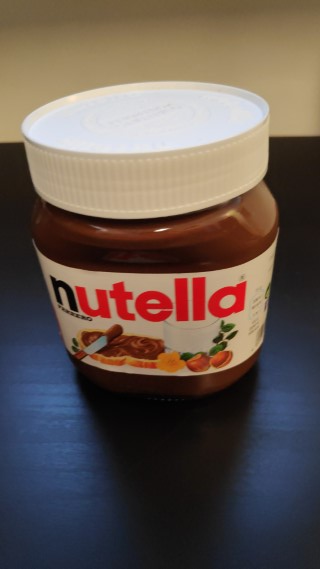nutella: (16, 78, 283, 404)
